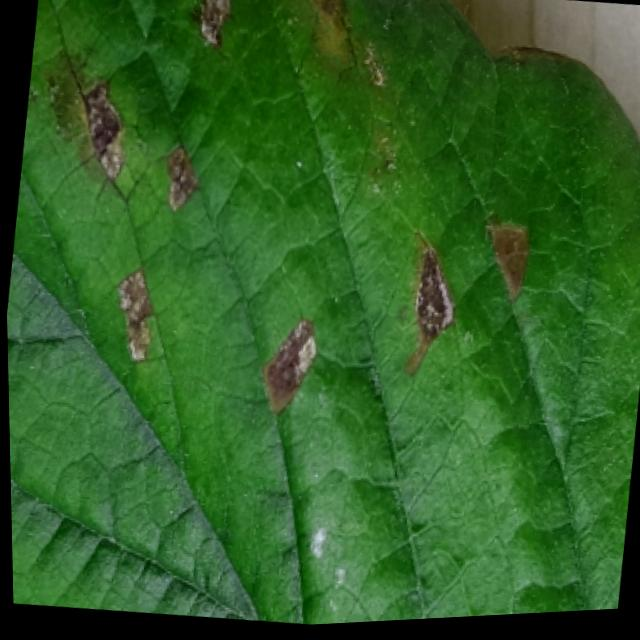Angular Leafspot: (27, 0, 640, 434)
